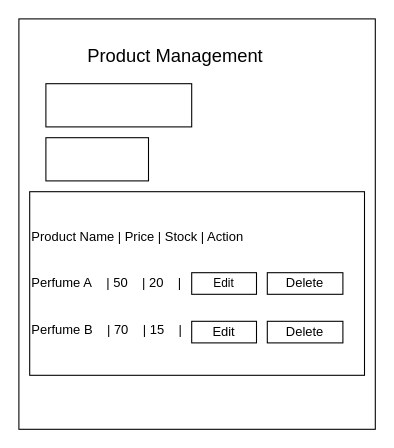
This 394x448 diagram has some shape labels left out. The centre of each missing label's shape, as x and y in pixels:
"+ Add Product" goes at (x=96, y=159).
"Search Product_______" goes at (x=118, y=105).
